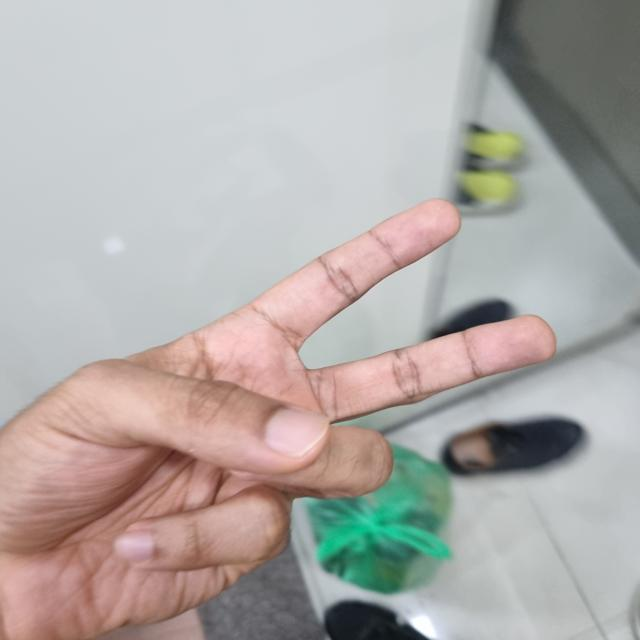Scissors: (0, 202, 536, 639)
